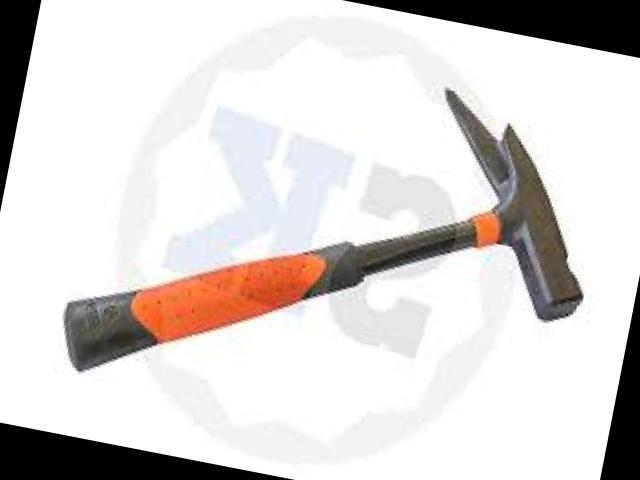hammer: (52, 19, 618, 464)
